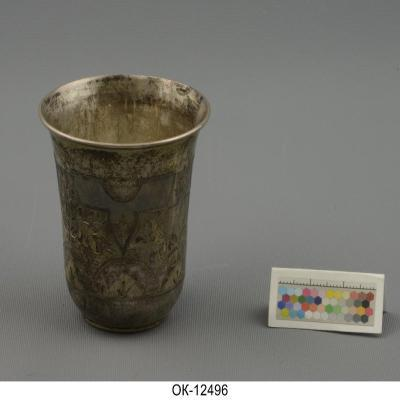dpi: (38, 75, 212, 336)
